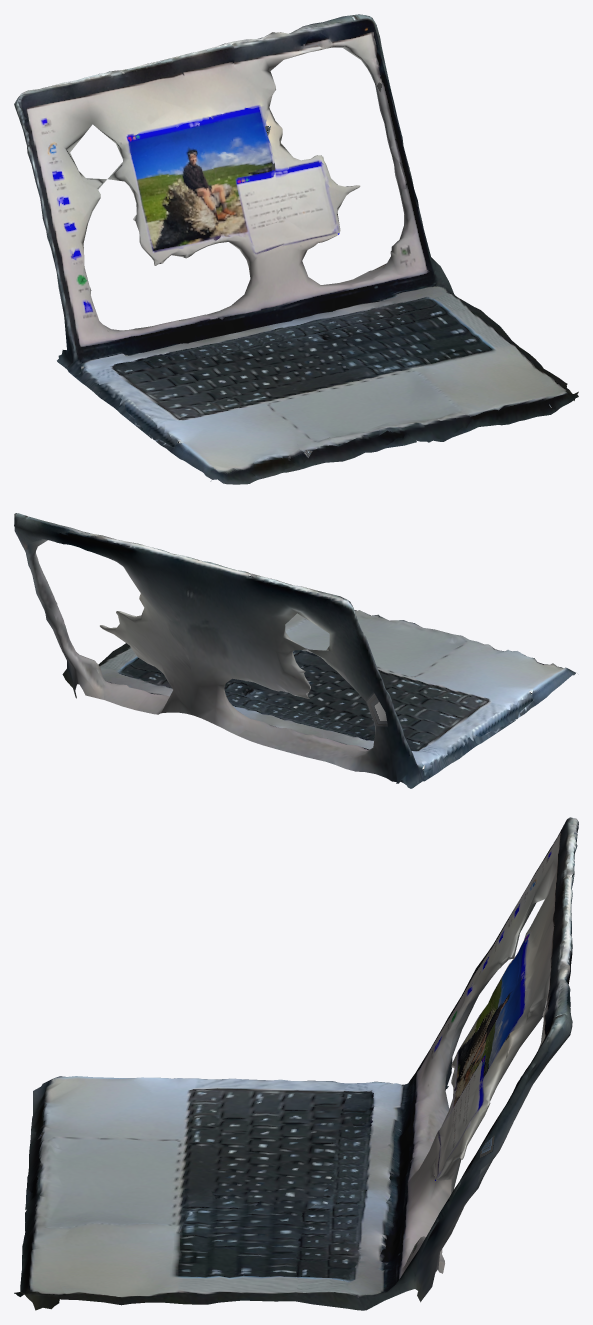
Rendered from Laptop.glb.
3 renders of one model, top to bottom at view 1: azimuth 30°, elevation 25°; view 2: azimuth 150°, elevation 25°; view 3: azimuth 270°, elevation 25°, orthographic. The views are drawn at different scales.
Visible parts, largest first — view 1: mesh; view 2: mesh; view 3: mesh.
Boxes of the visible parts, x1,y1,x2,y2 form: mesh: [14, 14, 578, 484]; mesh: [14, 513, 575, 788]; mesh: [14, 817, 578, 1310].
Size of the model in its own units: 0.3001 by 0.1819 by 0.3128.
1 material, 1 textured.
